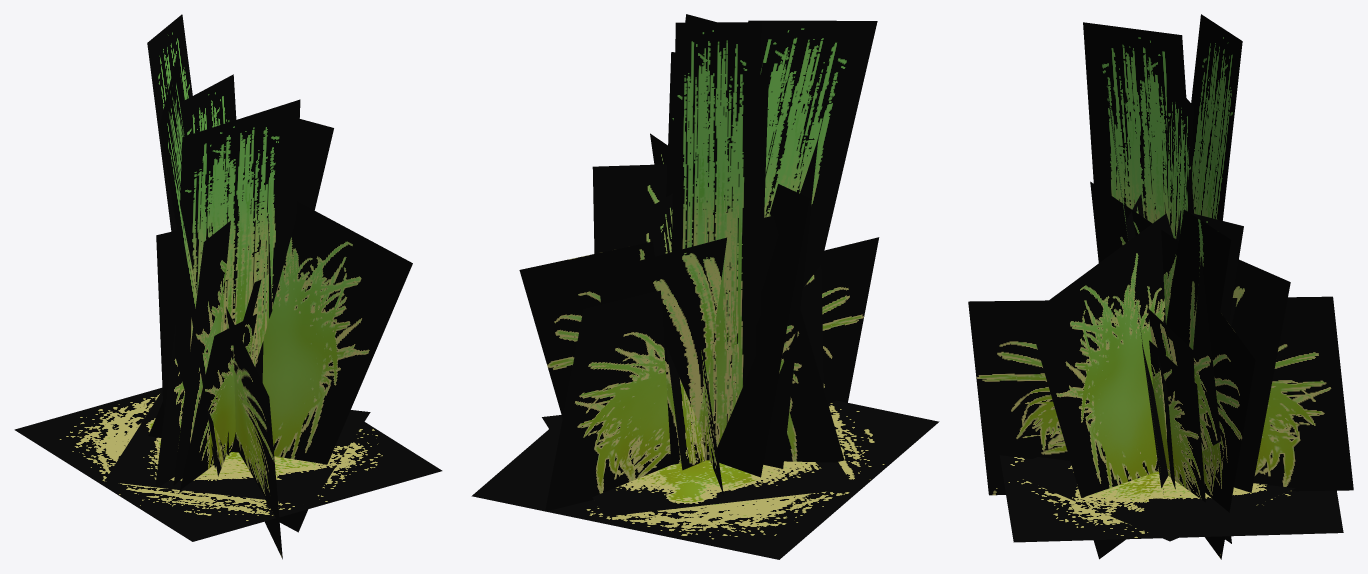
File: grass33.fbx
3 views of the same model, side by side, from view 1: azimuth 30°, elevation 25°; view 2: azimuth 150°, elevation 25°; view 3: azimuth 270°, elevation 25° (orthographic). The views are drawn at different scales.
Parts seen in each view (by area): view 1: grass3_BAKED; view 2: grass3_BAKED; view 3: grass3_BAKED.
Boxes of the visible parts, bbox=[...] form: grass3_BAKED: bbox=[14, 14, 442, 559]; grass3_BAKED: bbox=[471, 14, 939, 559]; grass3_BAKED: bbox=[968, 14, 1353, 559].
Bounding box in the file's own units: 43.91 × 38.4 × 62.16.
